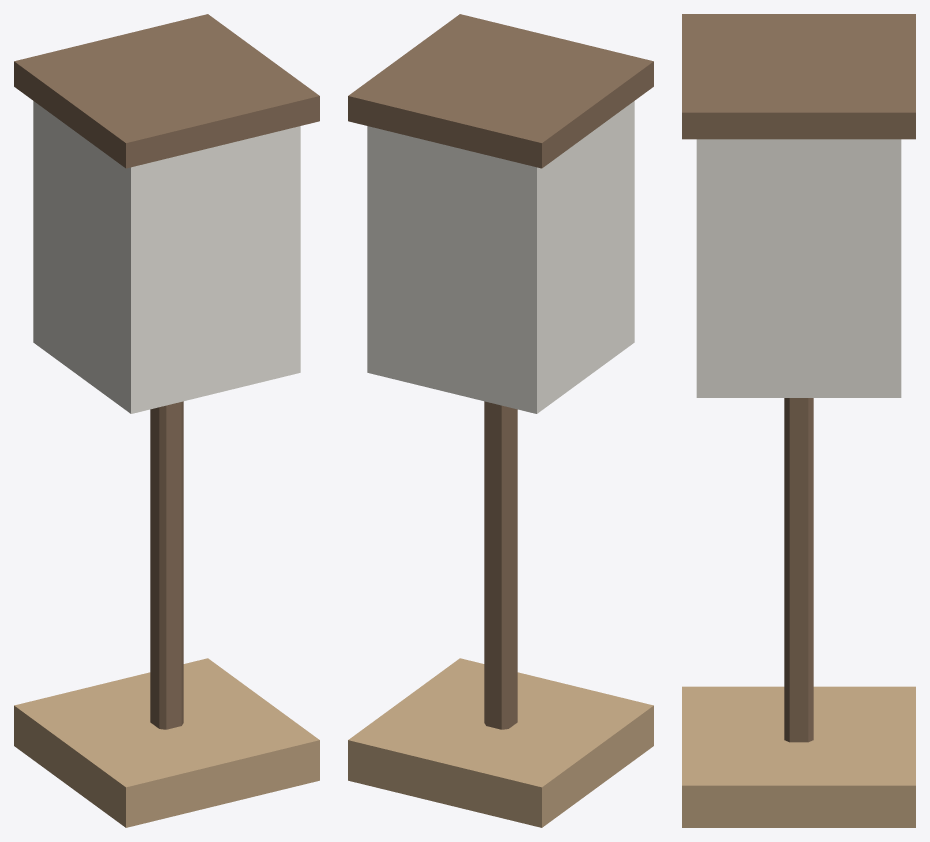
File: feudal-japan-castle-town-floor-lamp-d0919914__26470.glb
3 views of the same model, side by side, from view 1: azimuth 30°, elevation 25°; view 2: azimuth 150°, elevation 25°; view 3: azimuth 270°, elevation 25° (orthographic). The views are drawn at different scales.
Visible parts, largest first — view 1: floor-lamp; view 2: floor-lamp; view 3: floor-lamp.
Part boxes in pixels (x1,y1,x2,y2): floor-lamp: (14, 14, 319, 827); floor-lamp: (348, 14, 653, 827); floor-lamp: (682, 14, 915, 827).
Size of the model in its own units: 0.4 by 1.35 by 0.4.
